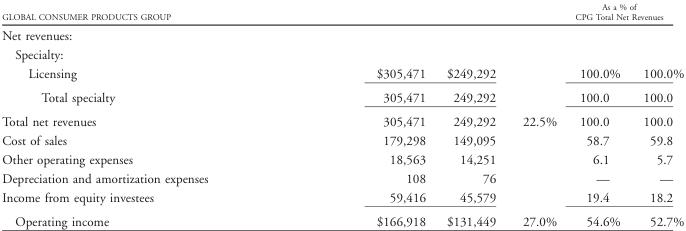table: (1, 1, 683, 228)
table column: (1, 1, 291, 228), (291, 1, 435, 228), (435, 1, 508, 228), (565, 1, 631, 228), (508, 1, 565, 228), (631, 1, 683, 228)
table column header: (1, 1, 683, 24)
table projected row header: (1, 24, 683, 44), (1, 44, 683, 63)
table row: (1, 85, 683, 109), (1, 1, 683, 24), (1, 63, 683, 85), (1, 187, 683, 209), (1, 109, 683, 130), (1, 24, 683, 44), (1, 44, 683, 63), (1, 130, 683, 149), (1, 149, 683, 168), (1, 168, 683, 187), (1, 209, 683, 228)
table spanning cell: (565, 1, 683, 24)
